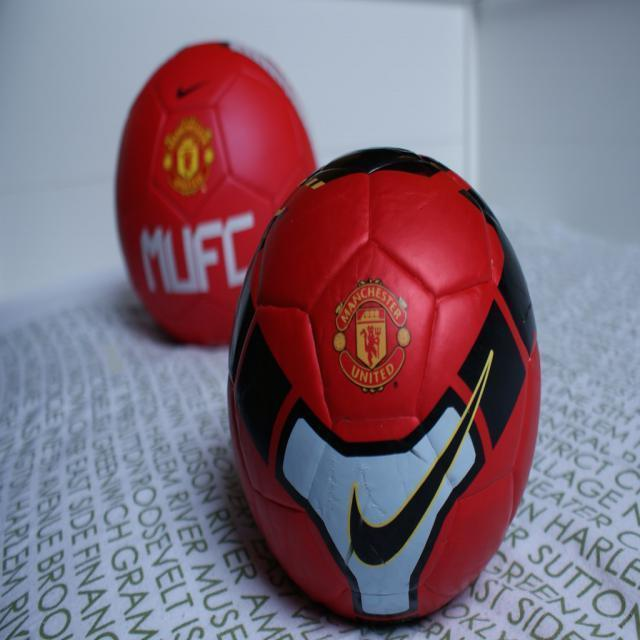ball: (227, 147, 542, 627), (114, 42, 317, 350)
